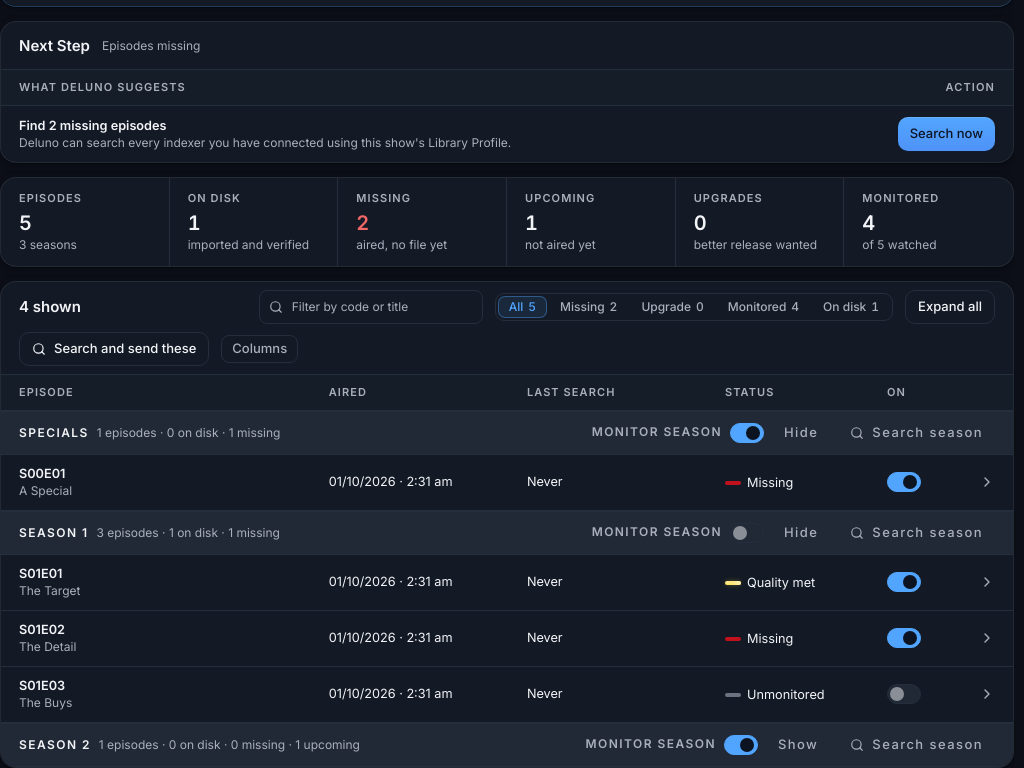
the show's Episodes tab › clicking an episode opens its drawer titled with the code and title, Basics are listed, and Close shuts it
This screenshot has width=1024, height=768.
(page scrolled)
Click the row "S01E02 The Detail 01/10/2026 · 2:31 am Never Missing" at (507, 638), box [1,610,1013,666]
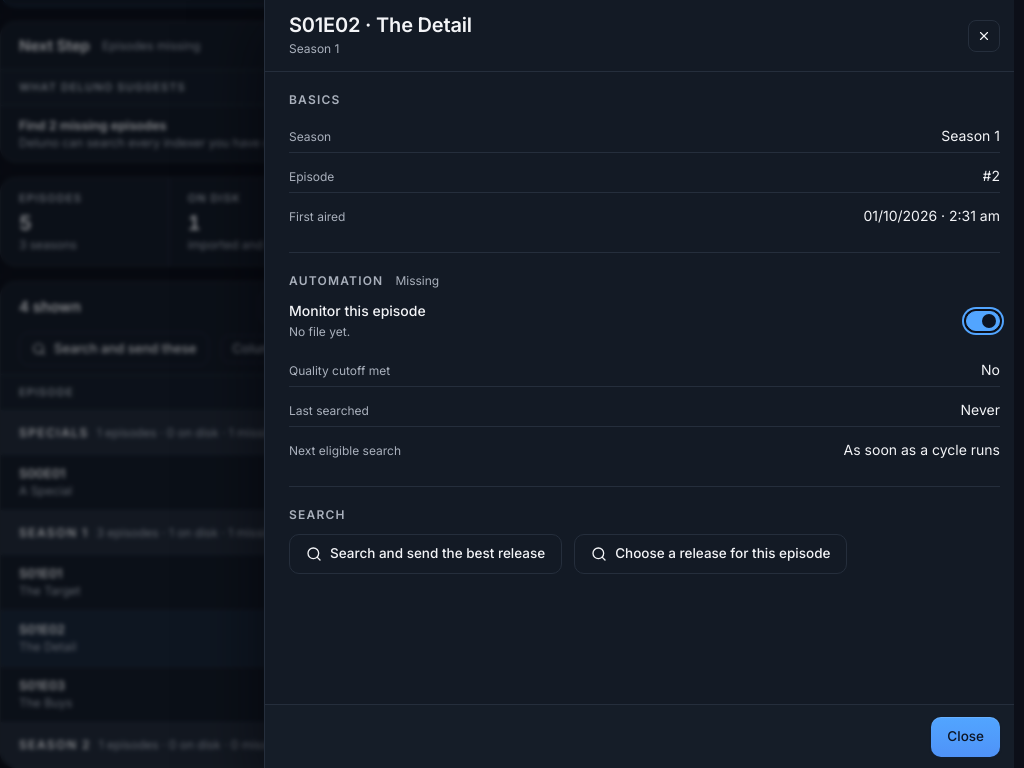
expect the text "Season 1" below "S01E02 · The Detail" is shown: met, box [289,41,339,56]
expect the text "Basics" is shown: met, box [289,92,340,107]
expect the text "First aired" is shown: met, box [289,208,346,226]
Click the button "Close" at (966, 736), box [931,716,1000,756]
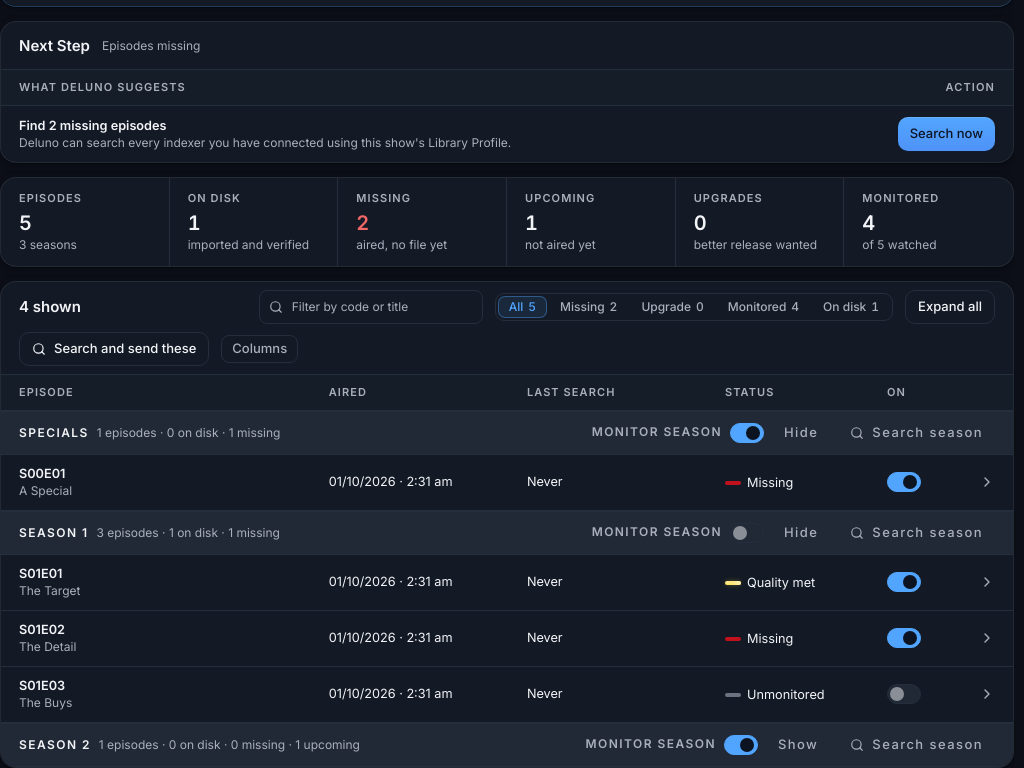
expect the heading "S01E02 · The Detail" is gone: met
